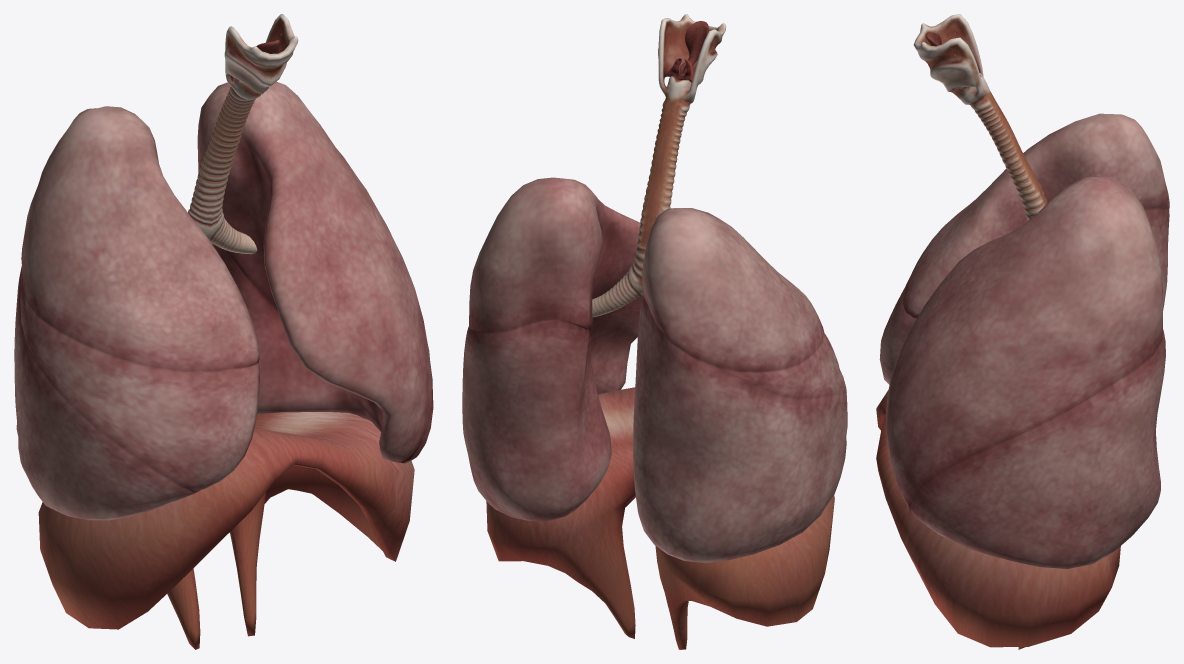
Rendered from Respiratory System Turbosquid.FBX.
The picture shows the model from 3 angles, left to right: view 1: azimuth 30°, elevation 25°; view 2: azimuth 150°, elevation 25°; view 3: azimuth 270°, elevation 25°; orthographic projection. The views are drawn at different scales.
Visible parts, largest first — view 1: Respiratory_Lungs, Respiratory_Diaphragm, Respiratory_Larynx_Trachea_Bronchus; view 2: Respiratory_Lungs, Respiratory_Diaphragm, Respiratory_Larynx_Trachea_Bronchus, Respiratory_Epiglotis; view 3: Respiratory_Lungs, Respiratory_Diaphragm, Respiratory_Larynx_Trachea_Bronchus.
Boxes of the visible parts, x1,y1,x2,y2 form: Respiratory_Lungs: (14, 81, 433, 520); Respiratory_Diaphragm: (38, 412, 414, 649); Respiratory_Larynx_Trachea_Bronchus: (188, 14, 298, 254); Respiratory_Lungs: (462, 177, 847, 562); Respiratory_Diaphragm: (486, 387, 834, 649); Respiratory_Larynx_Trachea_Bronchus: (592, 14, 726, 317); Respiratory_Epiglotis: (667, 21, 708, 81); Respiratory_Lungs: (879, 113, 1169, 569); Respiratory_Diaphragm: (876, 390, 1120, 649); Respiratory_Larynx_Trachea_Bronchus: (913, 14, 1047, 220).
Size of the model in its own units: 10.87 by 18.37 by 8.
